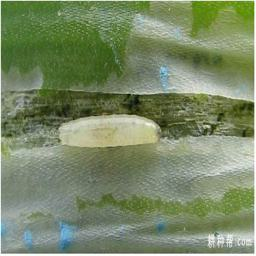liriomyza: (55, 113, 162, 146)
